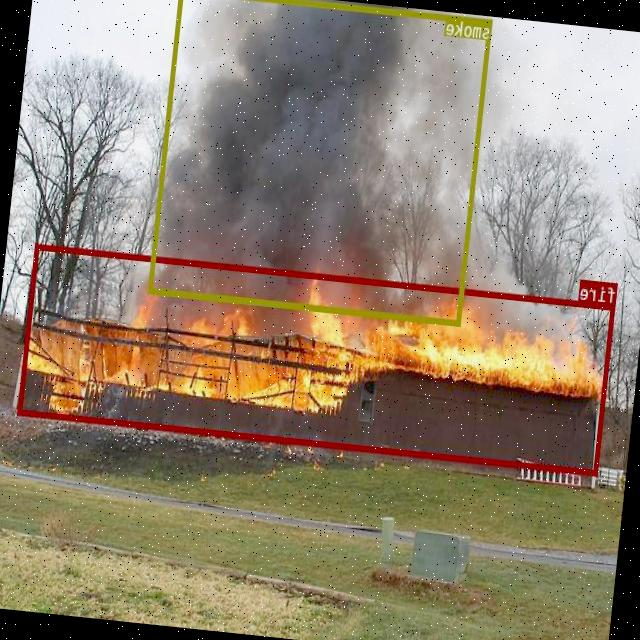fire: (19, 242, 616, 475)
smoke: (147, 0, 493, 325)
